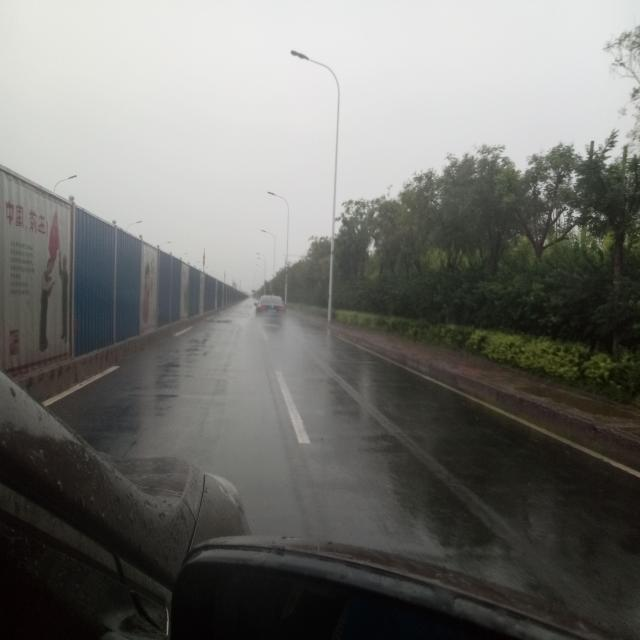car: (0, 368, 621, 636), (253, 294, 287, 330)
